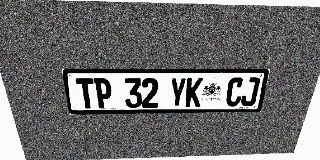2: (142, 78, 158, 108)
3: (124, 78, 142, 108)
C: (225, 77, 245, 106)
J: (240, 77, 261, 106)
K: (185, 78, 203, 107)
P: (93, 78, 113, 108)
T: (75, 78, 96, 109)
Y: (169, 78, 186, 107)
